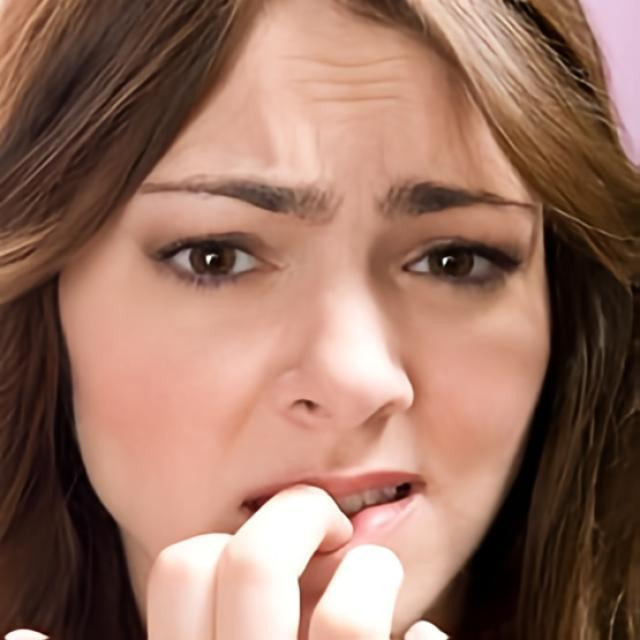fear: (55, 6, 552, 640)
